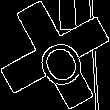O_NW: (24, 22, 86, 88)
